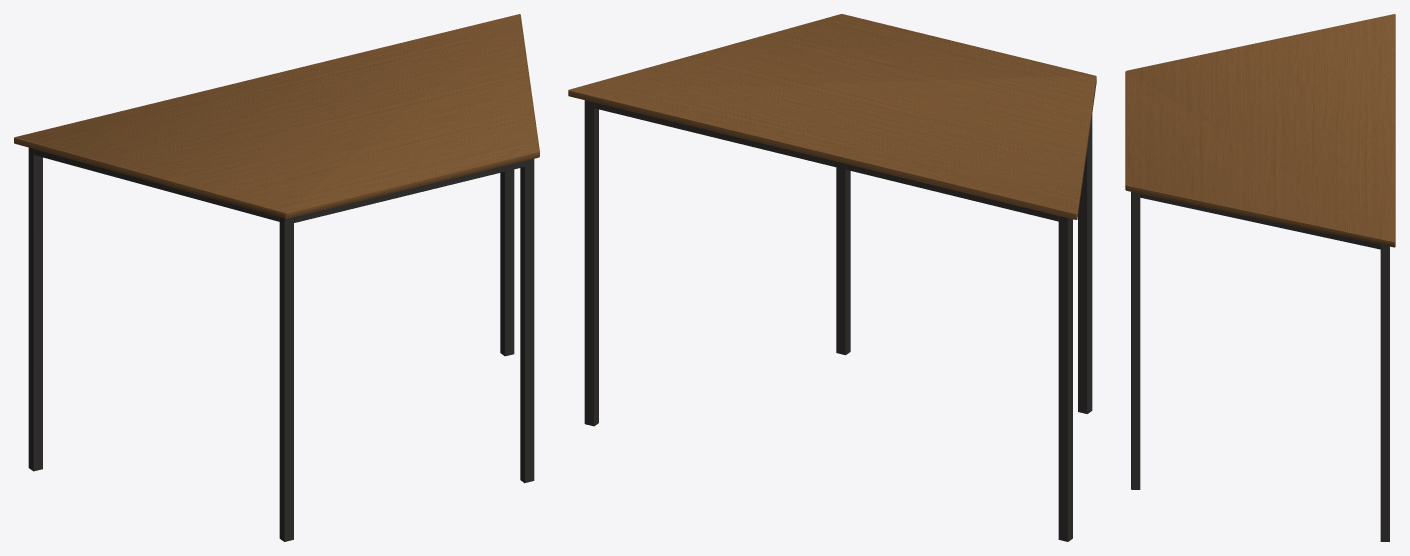
3 renders of one model, left to right at view 1: azimuth 30°, elevation 25°; view 2: azimuth 150°, elevation 25°; view 3: azimuth 270°, elevation 25°, orthographic. The views are drawn at different scales.
Visible parts, largest first — view 1: C-skpA1AF; view 2: C-skpA1AF; view 3: C-skpA1AF.
Boxes of the visible parts, <box> form: C-skpA1AF: <box>14,14,539,541</box>; C-skpA1AF: <box>568,14,1096,541</box>; C-skpA1AF: <box>1125,14,1395,541</box>.
Bounding box in the file's own units: 1.2 × 0.75 × 0.6.
Materials: 2 (1 with a texture image).
